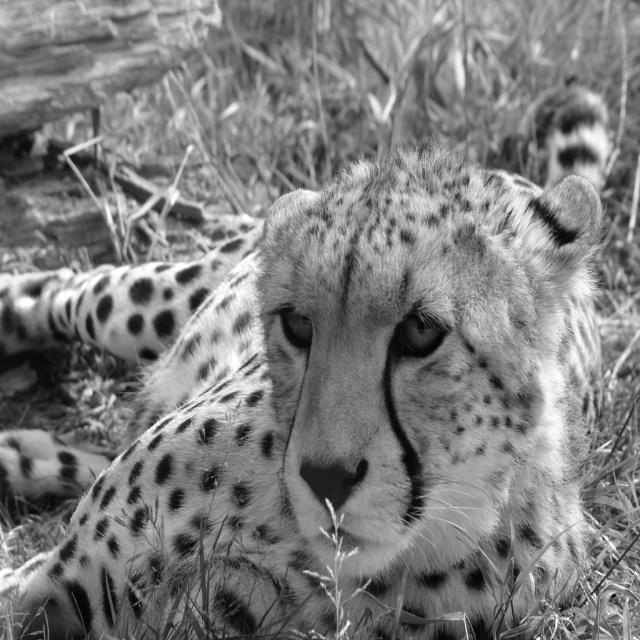cheetah: (47, 41, 614, 622)
